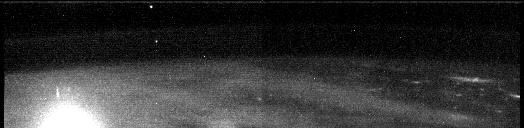positive: (52, 85, 76, 102)
